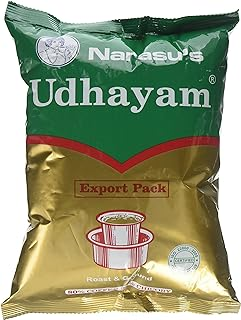Coffee: (2, 1, 240, 317)
